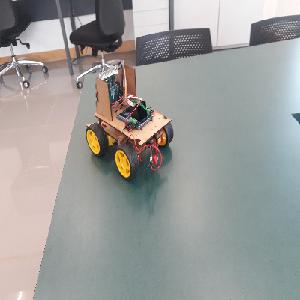Robot: (84, 61, 174, 181)
